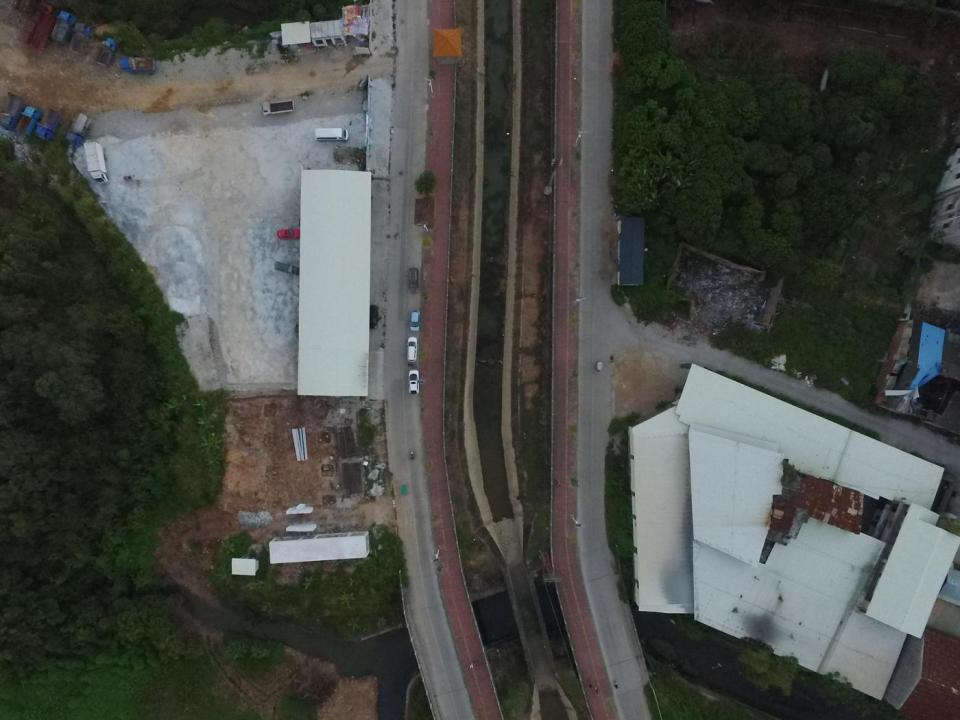car: (274, 260, 300, 276), (408, 371, 424, 394), (407, 267, 420, 294), (276, 227, 302, 240), (406, 336, 418, 363), (410, 309, 420, 331)
truck: (83, 140, 110, 184), (0, 89, 25, 129), (65, 112, 93, 147), (36, 106, 61, 142), (15, 106, 43, 138), (49, 9, 74, 44), (119, 55, 156, 76), (68, 20, 90, 52), (93, 37, 115, 67), (260, 99, 293, 116)
van: (314, 127, 350, 142)
